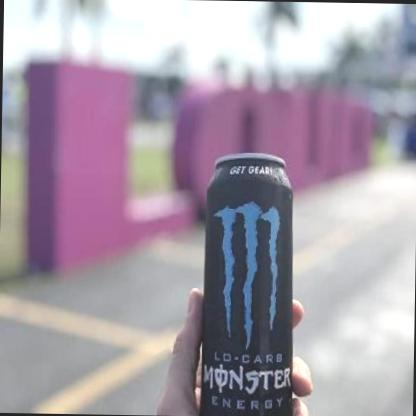alumunium_can: (198, 150, 299, 416)
